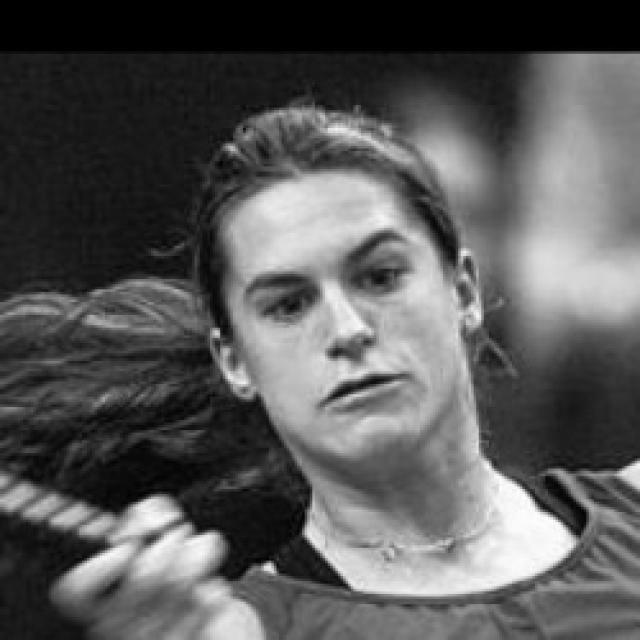real: (224, 168, 450, 466), (244, 246, 425, 320)
